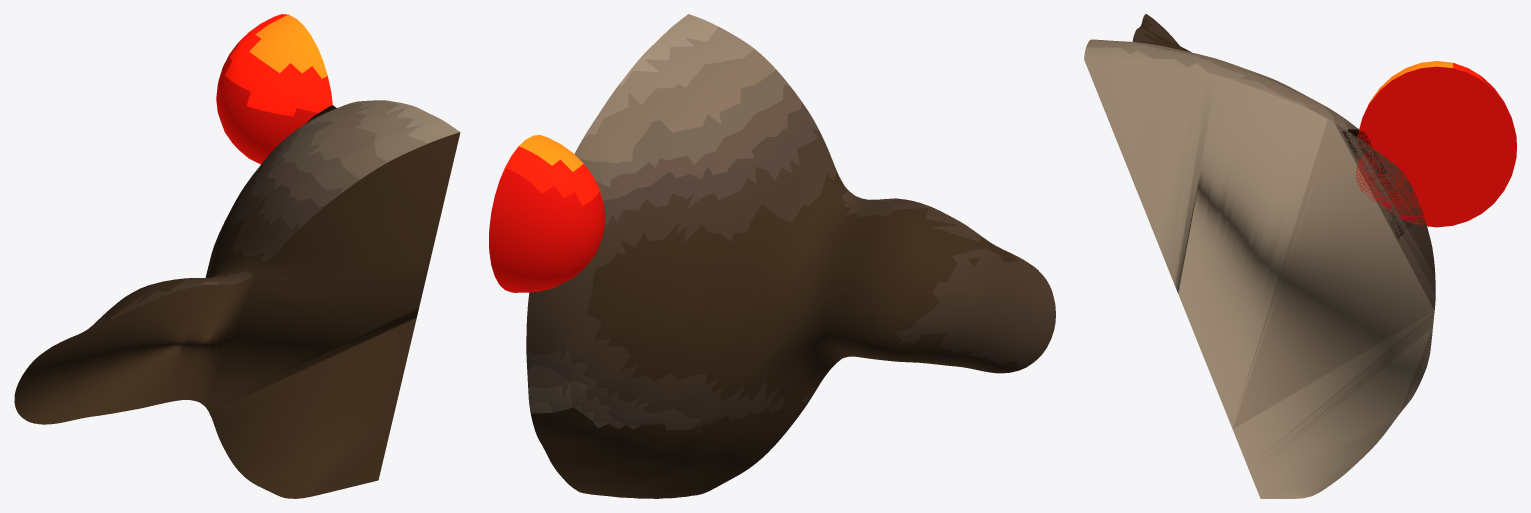
Rendered from tan_dome_165.glb.
3 renders of one model, left to right at view 1: azimuth 30°, elevation 25°; view 2: azimuth 150°, elevation 25°; view 3: azimuth 270°, elevation 25°, orthographic. The views are drawn at different scales.
Visible parts, largest first — view 1: tan_dome_165; view 2: tan_dome_165; view 3: tan_dome_165.
Part boxes in pixels (x1=…): tan_dome_165: x1=14, y1=14, x2=460, y2=498; tan_dome_165: x1=489, y1=14, x2=1055, y2=498; tan_dome_165: x1=1084, y1=14, x2=1516, y2=498.
Size of the model in its own units: 16.88 by 16.17 by 14.43.
